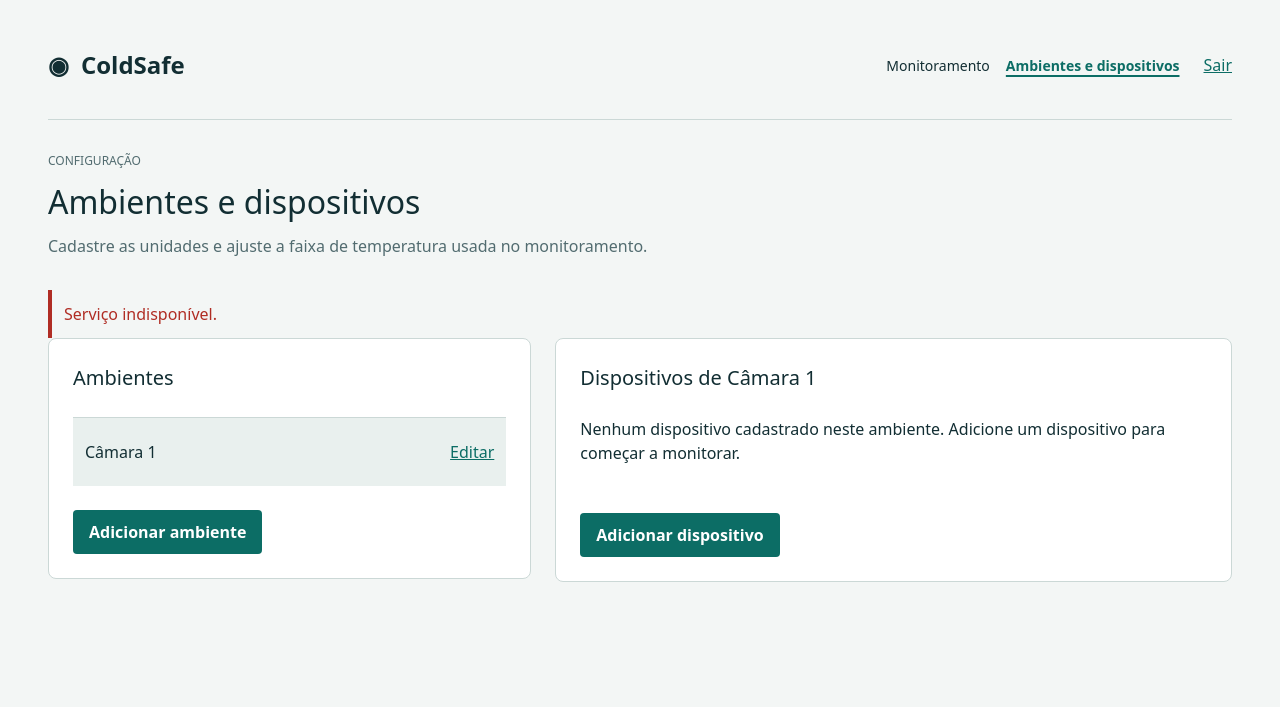
Test: mostra falha de carregamento e impede limites inválidos perto dos campos
The width and height of the screenshot is (1280, 707).
Expected: the message "Serviço indisponível." is shown, top-left (48, 290), bottom-right (1232, 338)
Click the button with class "item-name" at (121, 452), box top-left (85, 430), bottom-right (438, 474)
(page scrolled)
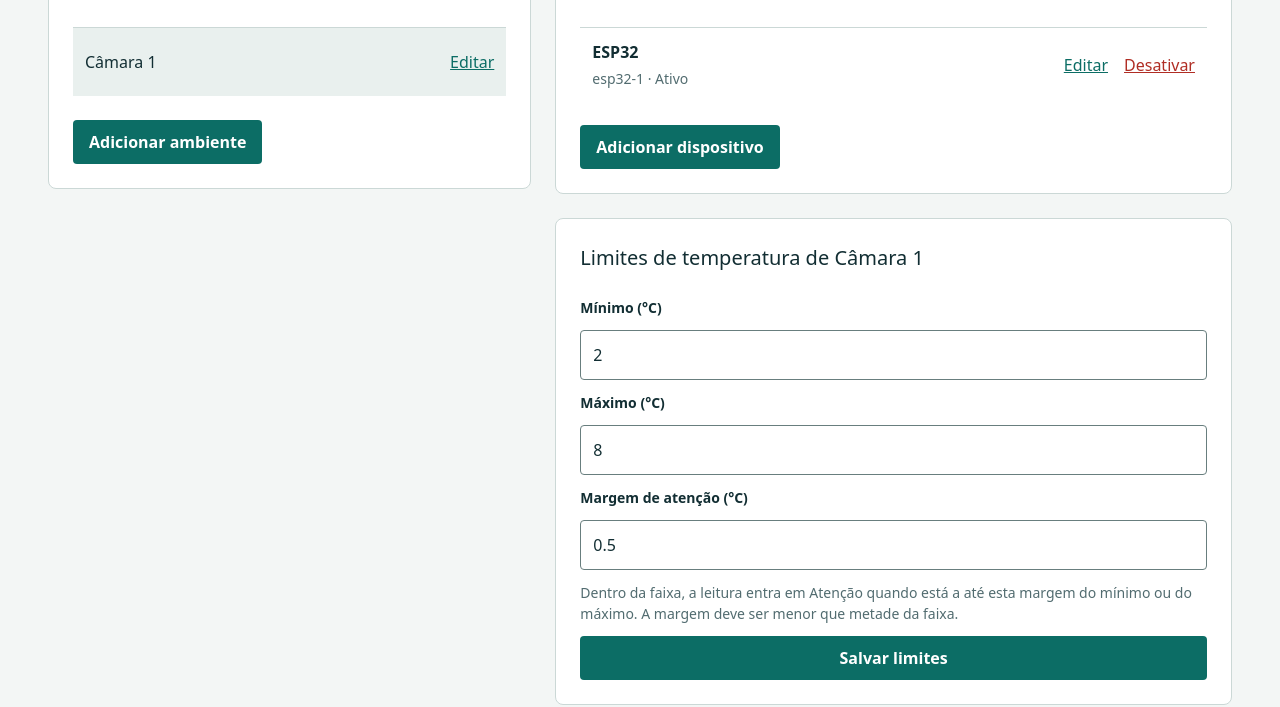
Replace the text in the number field with id "min-c" with "10" at (894, 355), box top-left (580, 330), bottom-right (1207, 380)
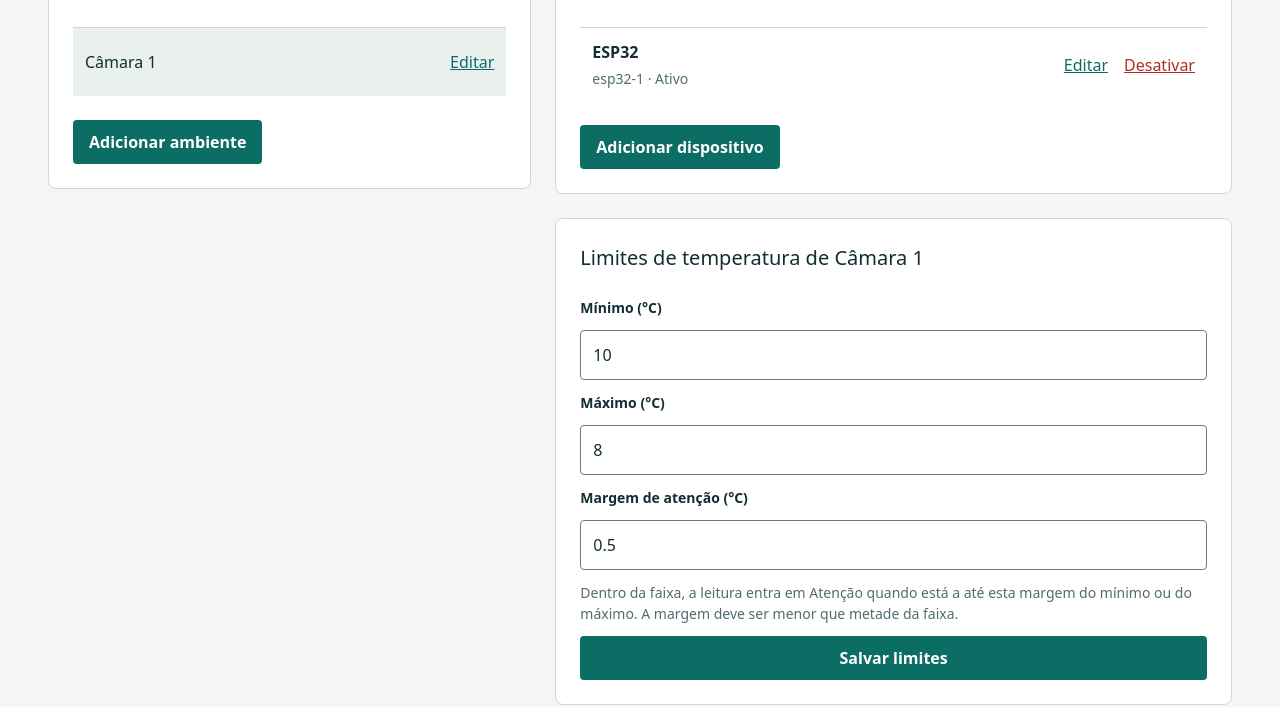
Replace the text in the number field with id "max-c" with "9" at (894, 450), box top-left (580, 425), bottom-right (1207, 475)
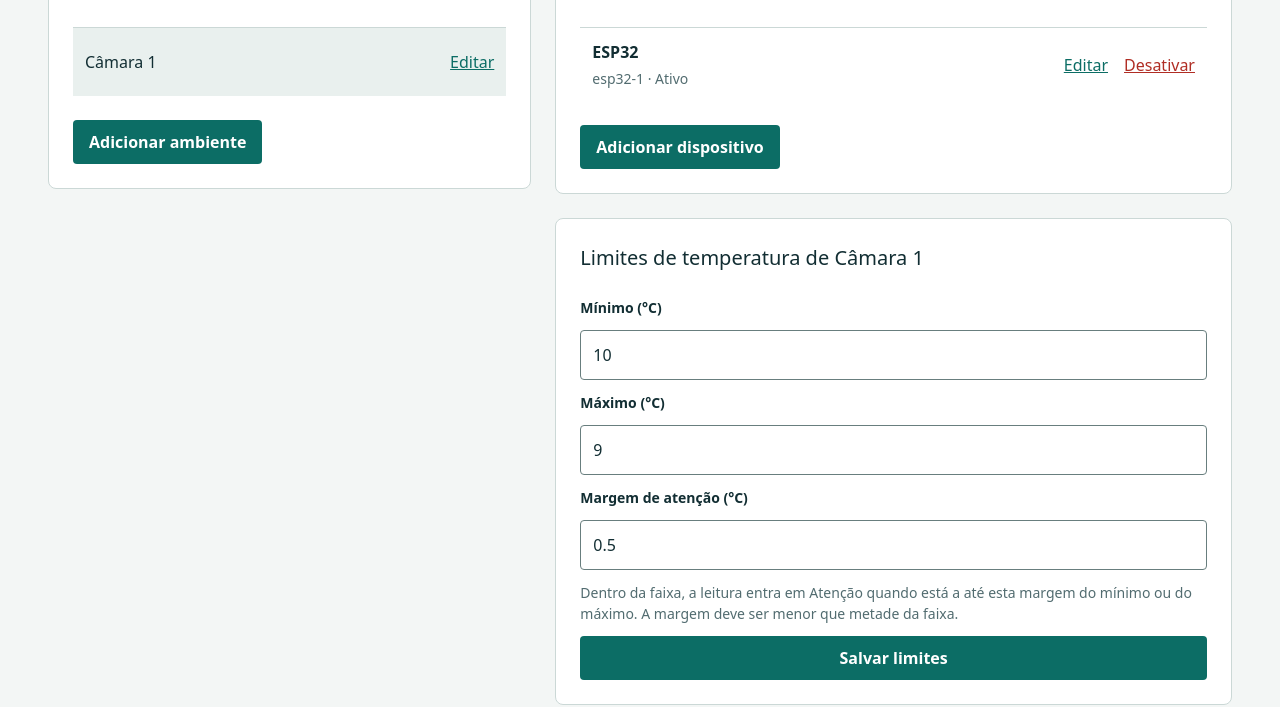
Submit the form with id "min-c", box top-left (580, 297), bottom-right (1207, 680)
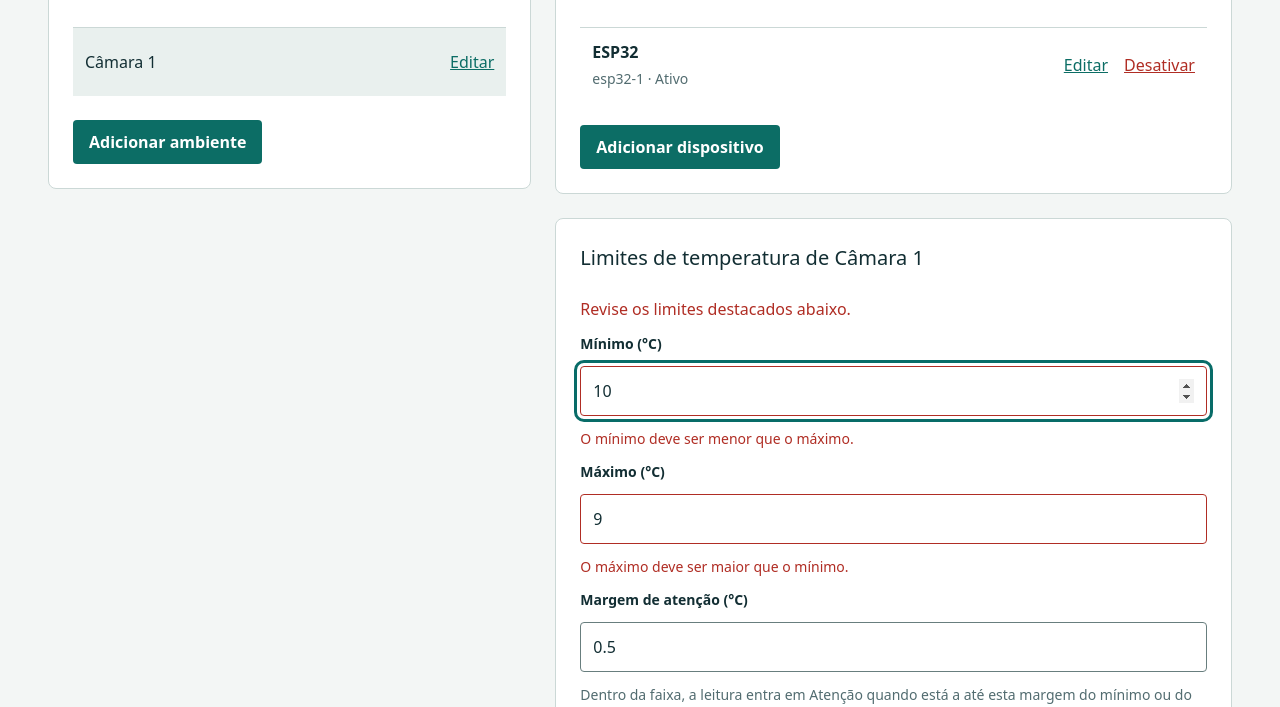
Result: the text with id "min-c-error" shows "menor que o máximo" at top-left (580, 429), bottom-right (854, 448)
Result: the text with id "max-c-error" shows "maior que o mínimo" at top-left (580, 557), bottom-right (849, 576)
